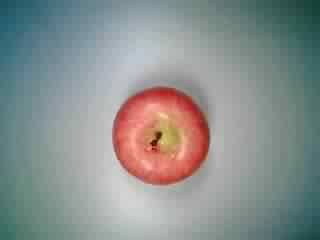apple: (110, 86, 214, 187)
